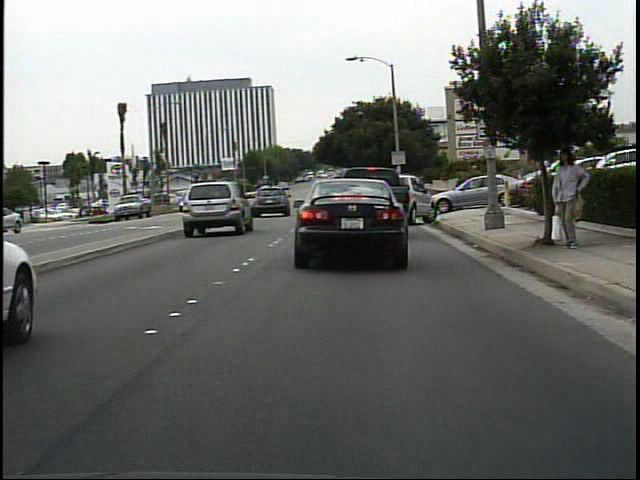person: (548, 141, 591, 252)
